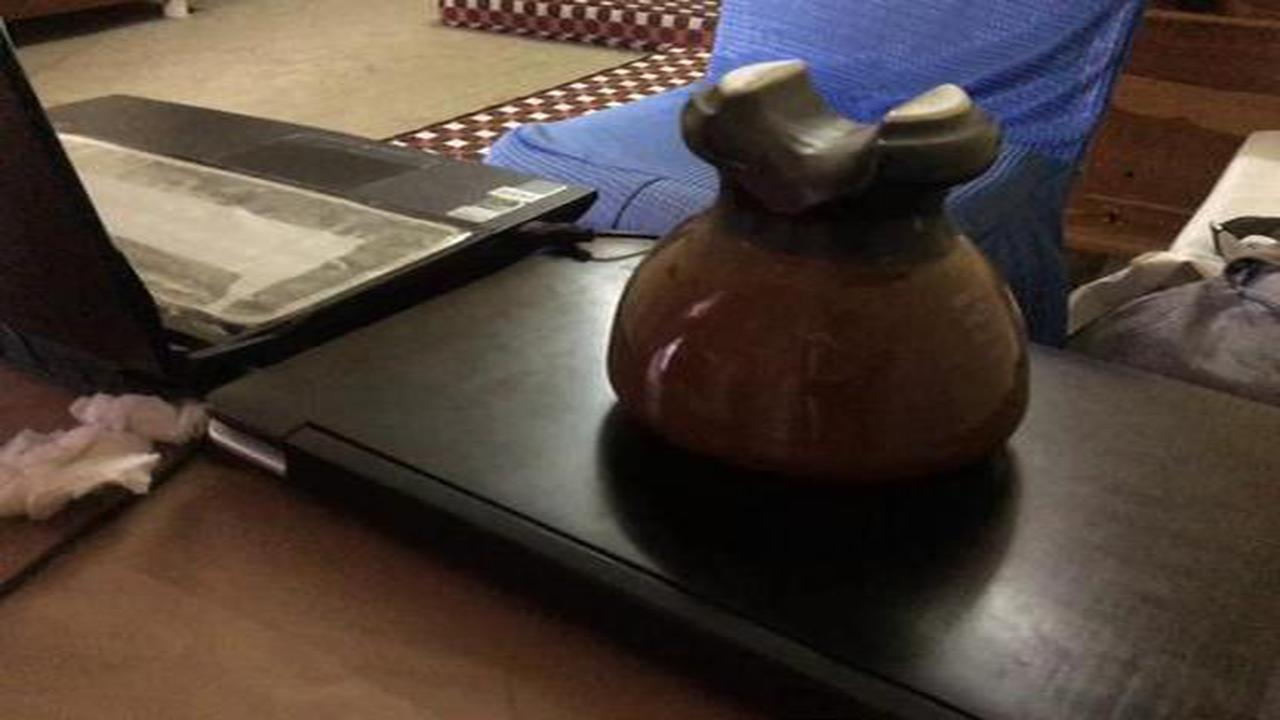insulator_pin: (601, 40, 1059, 502)
